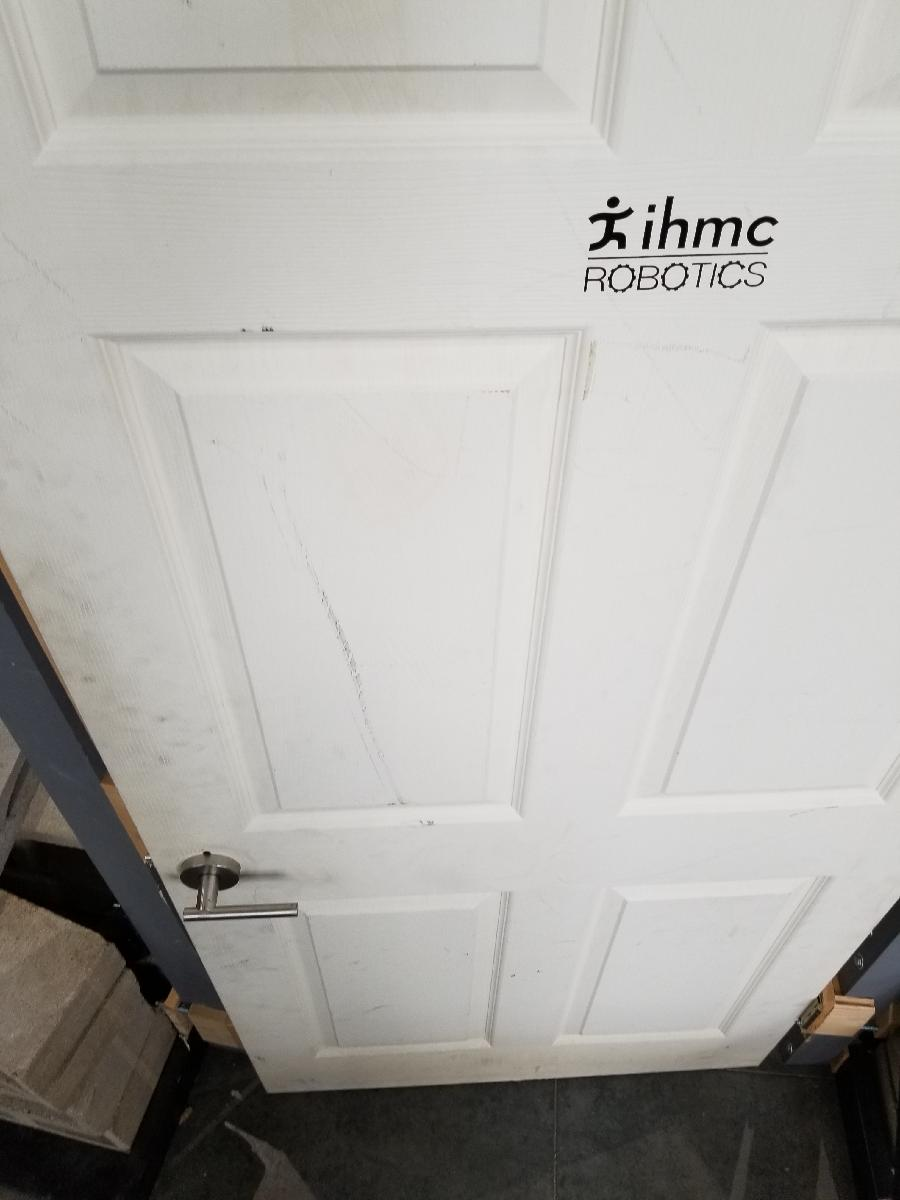doorHandle: (174, 850, 304, 931)
